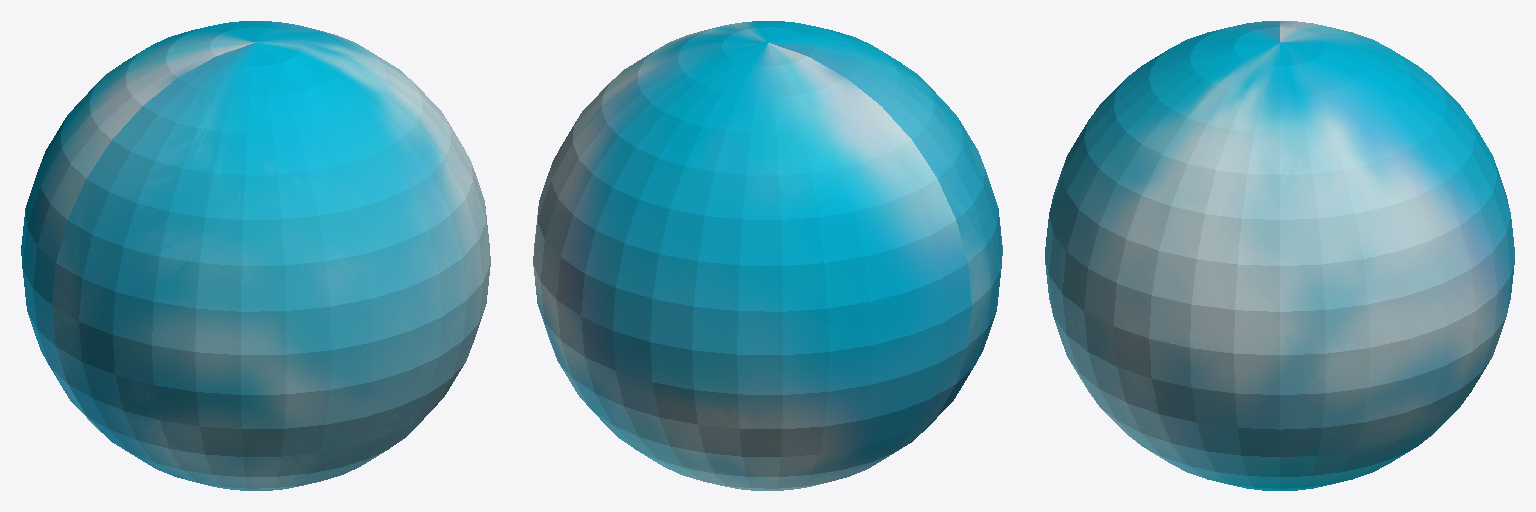
3 renders of one model, left to right at view 1: azimuth 30°, elevation 25°; view 2: azimuth 150°, elevation 25°; view 3: azimuth 270°, elevation 25°, orthographic.
Visible parts, largest first — view 1: 球; view 2: 球; view 3: 球.
Part boxes in pixels (x1,y1,x2,y2): 球: (21, 21, 490, 490); 球: (533, 21, 1002, 490); 球: (1045, 21, 1514, 490).
Bounding box in the file's own units: 1000 × 1000 × 1000.
1 materials, 1 textured.